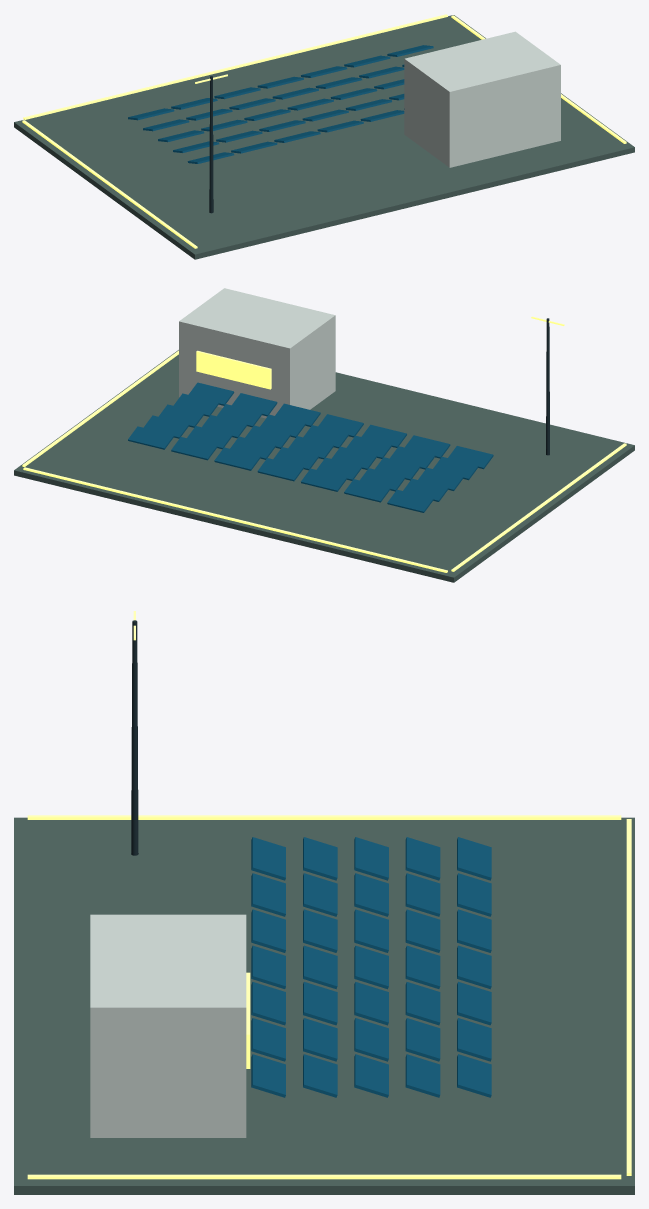
The model's file is solar-module.glb.
The picture shows the model from 3 angles, top to bottom: view 1: azimuth 30°, elevation 25°; view 2: azimuth 150°, elevation 25°; view 3: azimuth 270°, elevation 25°; orthographic projection. The views are drawn at different scales.
Parts seen in each view (by area): view 1: rj-solar-building-module-service-pad, rj-solar-building-module-inverter-control-building, rj-solar-building-module-front-glow-rail, rj-solar-building-module-side-glow-rail-left, rj-solar-building-module-met-mast, rj-solar-building-module-side-glow-rail-right; view 2: rj-solar-building-module-service-pad, rj-solar-building-module-inverter-control-building, rj-solar-building-module-inverter-status-wall, rj-solar-building-module-front-glow-rail, rj-solar-building-module-side-glow-rail-left, rj-solar-building-module-side-glow-rail-right, rj-solar-building-module-panel-1-2, rj-solar-building-module-panel-1-4, rj-solar-building-module-panel-1-6, rj-solar-building-module-panel-1-1, rj-solar-building-module-panel-1-3, rj-solar-building-module-panel-1-5 (+30 smaller); view 3: rj-solar-building-module-service-pad, rj-solar-building-module-inverter-control-building, rj-solar-building-module-side-glow-rail-right, rj-solar-building-module-side-glow-rail-left, rj-solar-building-module-front-glow-rail, rj-solar-building-module-met-mast, rj-solar-building-module-panel-2-1, rj-solar-building-module-panel-2-2, rj-solar-building-module-panel-2-3, rj-solar-building-module-panel-2-4, rj-solar-building-module-panel-2-6, rj-solar-building-module-panel-2-7 (+29 smaller).
Part boxes in pixels (x1,y1,x2,y2): rj-solar-building-module-service-pad: [14, 15, 634, 259]; rj-solar-building-module-inverter-control-building: [404, 31, 560, 167]; rj-solar-building-module-front-glow-rail: [23, 14, 447, 119]; rj-solar-building-module-side-glow-rail-left: [22, 120, 197, 248]; rj-solar-building-module-met-mast: [209, 76, 213, 213]; rj-solar-building-module-side-glow-rail-right: [451, 15, 626, 143]; rj-solar-building-module-service-pad: [14, 350, 634, 582]; rj-solar-building-module-inverter-control-building: [179, 288, 335, 418]; rj-solar-building-module-inverter-status-wall: [196, 350, 271, 389]; rj-solar-building-module-front-glow-rail: [23, 467, 447, 572]; rj-solar-building-module-side-glow-rail-left: [451, 443, 626, 571]; rj-solar-building-module-side-glow-rail-right: [22, 350, 178, 466]; rj-solar-building-module-panel-1-2: [344, 479, 390, 502]; rj-solar-building-module-panel-1-4: [257, 458, 303, 481]; rj-solar-building-module-panel-1-6: [171, 437, 217, 460]; rj-solar-building-module-panel-1-1: [387, 489, 433, 512]; rj-solar-building-module-panel-1-3: [301, 468, 347, 491]; rj-solar-building-module-panel-1-5: [214, 447, 260, 470]; rj-solar-building-module-service-pad: [14, 817, 634, 1194]; rj-solar-building-module-inverter-control-building: [90, 914, 246, 1137]; rj-solar-building-module-side-glow-rail-right: [27, 1174, 621, 1179]; rj-solar-building-module-side-glow-rail-left: [27, 815, 621, 819]; rj-solar-building-module-front-glow-rail: [626, 819, 631, 1175]; rj-solar-building-module-met-mast: [131, 620, 138, 855]; rj-solar-building-module-panel-2-1: [405, 837, 440, 880]; rj-solar-building-module-panel-2-2: [405, 873, 440, 916]; rj-solar-building-module-panel-2-3: [405, 909, 440, 952]; rj-solar-building-module-panel-2-4: [405, 945, 440, 988]; rj-solar-building-module-panel-2-6: [405, 1018, 440, 1061]; rj-solar-building-module-panel-2-7: [405, 1054, 440, 1097].
Size of the model in its own units: 14.25 by 4.48 by 10.15.
